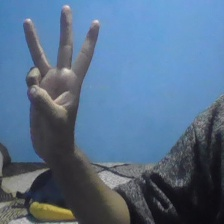W: (19, 4, 103, 164)
